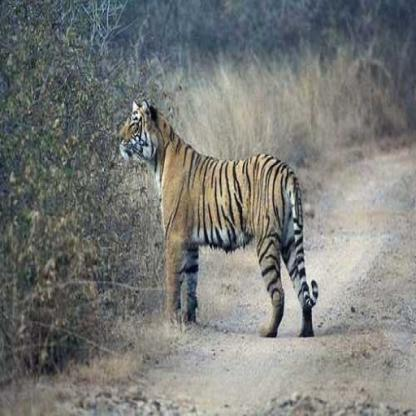Tiger: (91, 94, 338, 351)
